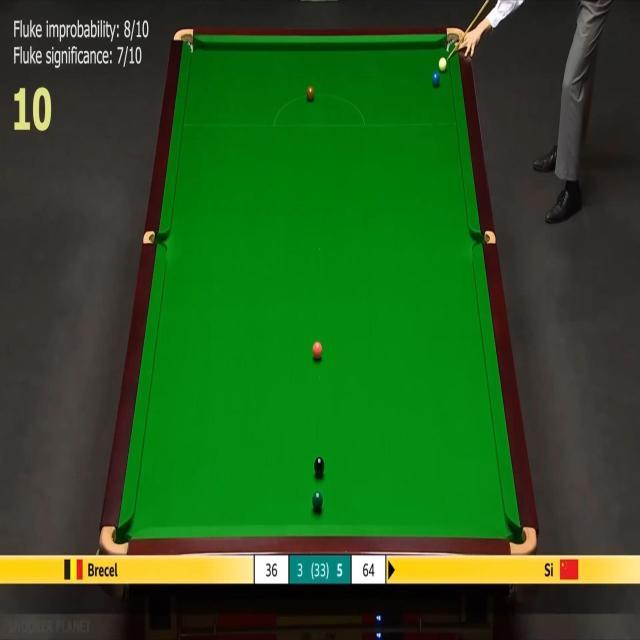Ball: (314, 456, 325, 476), (312, 492, 323, 509), (312, 342, 322, 358), (432, 71, 440, 86), (439, 57, 447, 72), (306, 86, 314, 100)
